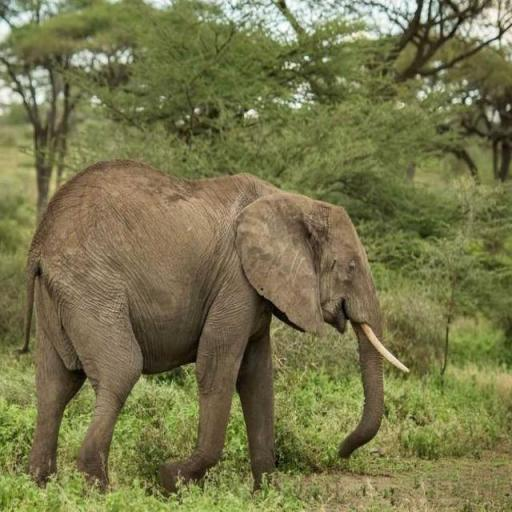Elephant: (16, 156, 410, 498)
